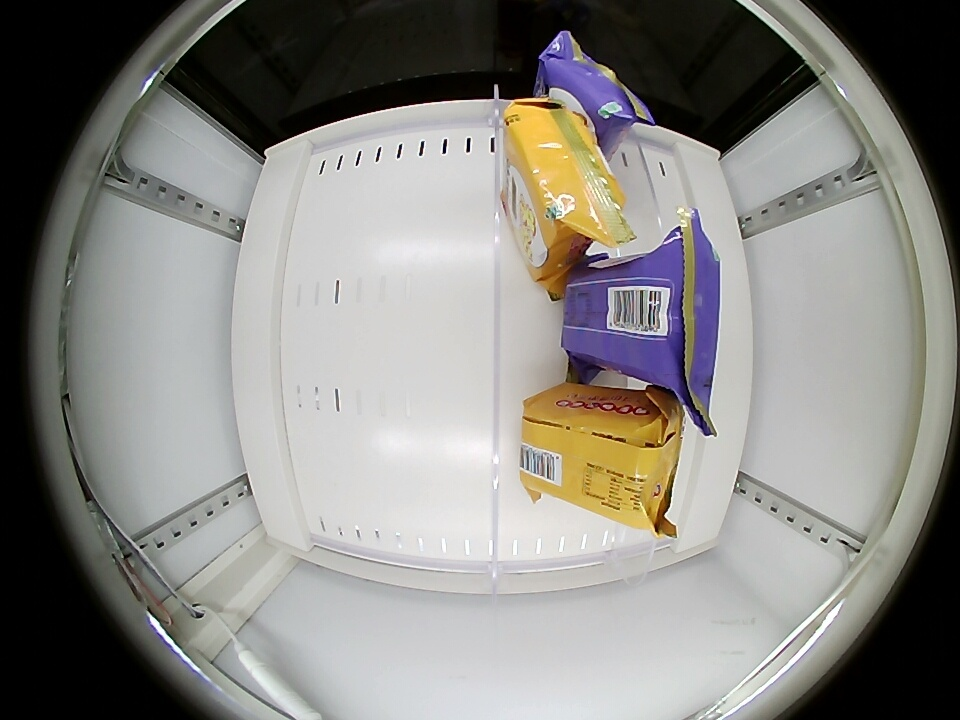kaomo_gali: (520, 383, 683, 528), (502, 101, 628, 275)
kaomo_jiaoyan: (562, 230, 721, 399), (537, 37, 652, 147)
